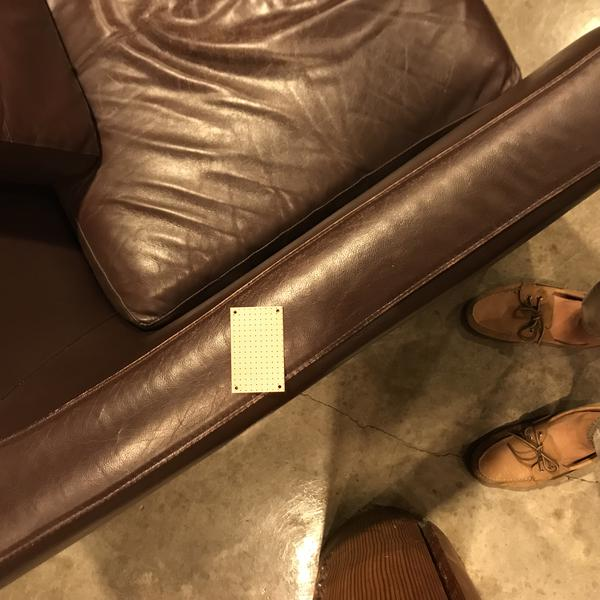board: (229, 306, 286, 394)
